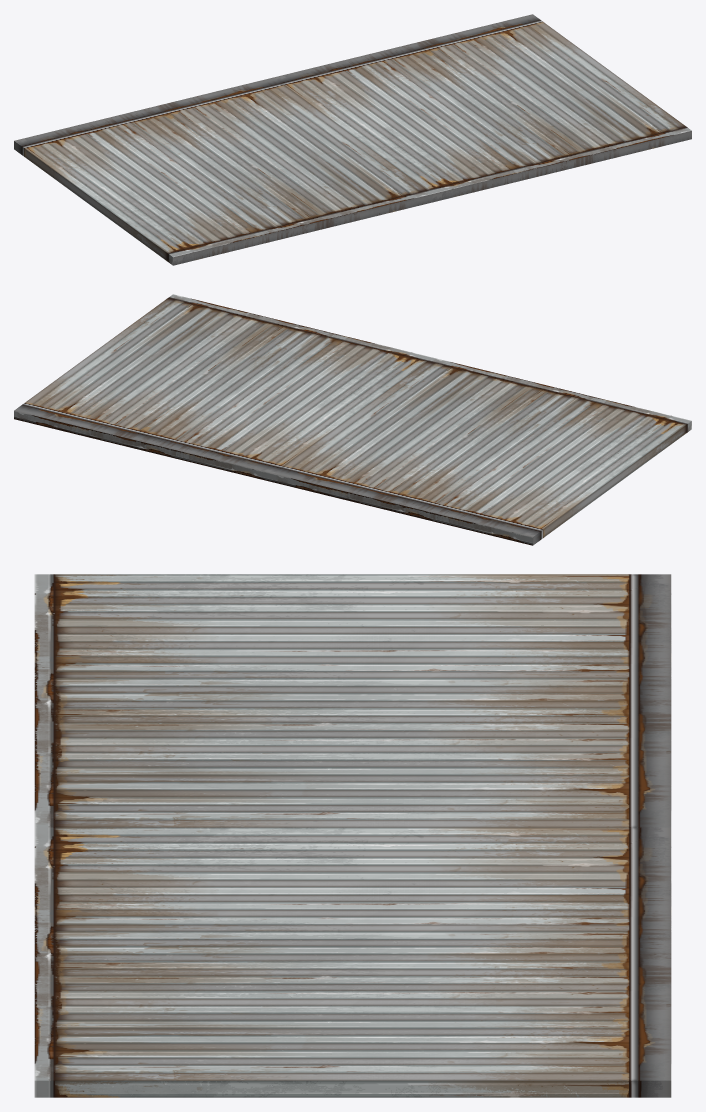
The model's file is roof_container_6m.fbx.
3 renders of one model, top to bottom at view 1: azimuth 30°, elevation 25°; view 2: azimuth 150°, elevation 25°; view 3: azimuth 270°, elevation 25°, orthographic. The views are drawn at different scales.
Parts seen in each view (by area): view 1: roof_container_6m; view 2: roof_container_6m; view 3: roof_container_6m.
Boxes of the visible parts, left/top/right/bottom form: roof_container_6m: left=14, top=14, right=691, bottom=265; roof_container_6m: left=14, top=294, right=691, bottom=545; roof_container_6m: left=34, top=574, right=671, bottom=1097.
Bounding box in the file's own units: 640 × 10 × 340.
